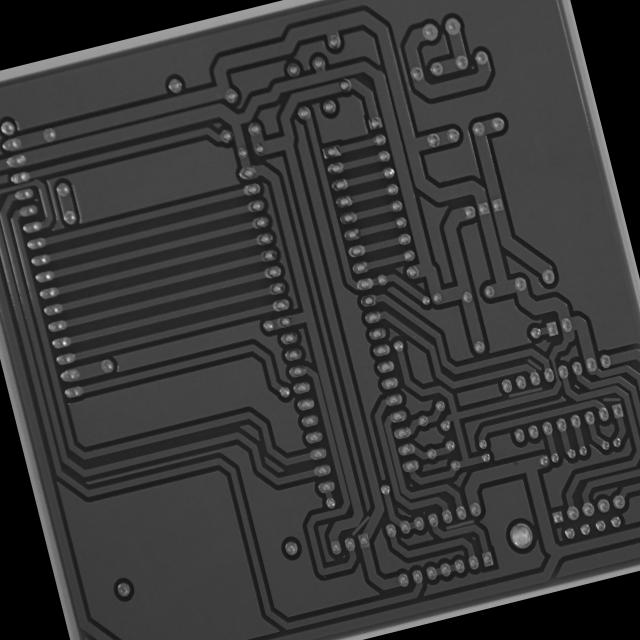spurious_copper: (504, 381, 546, 402), (440, 512, 480, 534), (344, 512, 374, 536), (522, 353, 544, 377), (599, 390, 625, 409)
